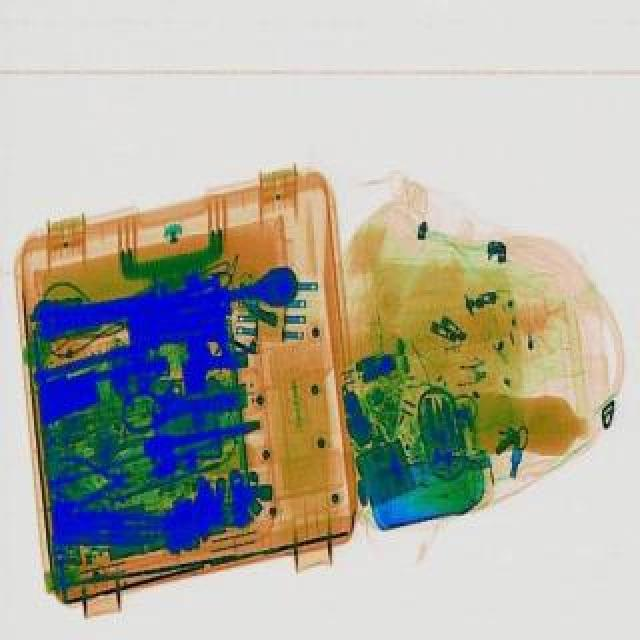wrench: (54, 450, 136, 510)
